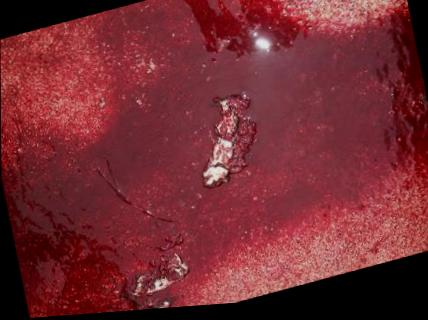Fire: (0, 0, 428, 318)
